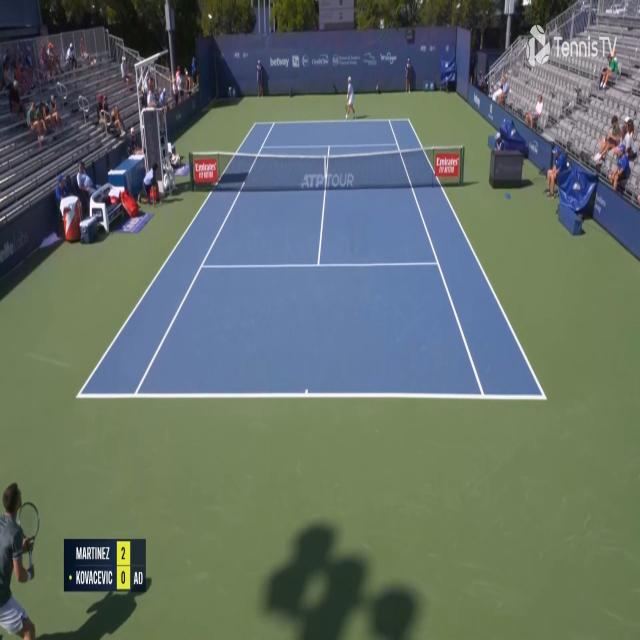tennis-player: (0, 475, 40, 637), (344, 75, 358, 122)
